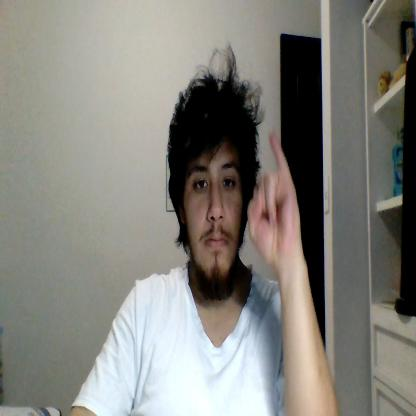I: (248, 133, 302, 265)
